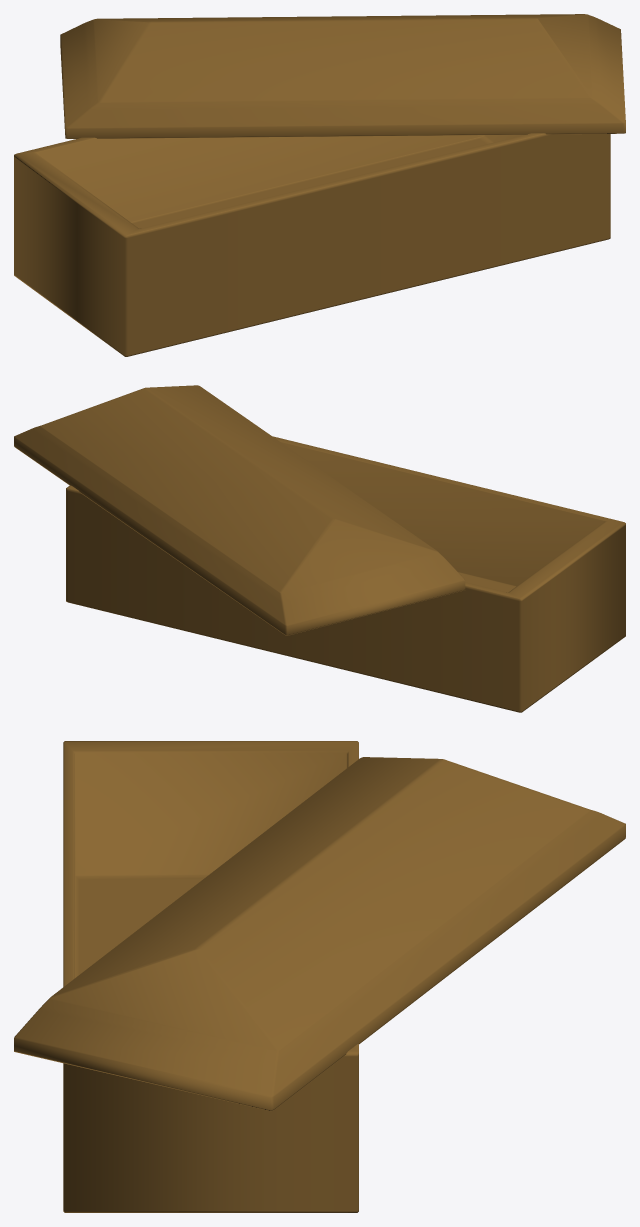
Rendered from uploads_files_4021000_Coffin.fbx.
3 renders of one model, top to bottom at view 1: azimuth 30°, elevation 25°; view 2: azimuth 150°, elevation 25°; view 3: azimuth 270°, elevation 25°, orthographic. The views are drawn at different scales.
Parts seen in each view (by area): view 1: Cube, Cube.001; view 2: Cube, Cube.001; view 3: Cube.001, Cube.
Boxes of the visible parts, x1,y1,x2,y2 form: Cube: (14, 133, 610, 356); Cube.001: (60, 14, 625, 138); Cube: (66, 436, 625, 712); Cube.001: (14, 385, 465, 635); Cube.001: (14, 757, 625, 1111); Cube: (63, 741, 358, 1212).
Size of the model in its own units: 591 by 186 by 414.
